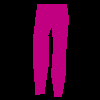pantaloni: (32, 3, 68, 96)
